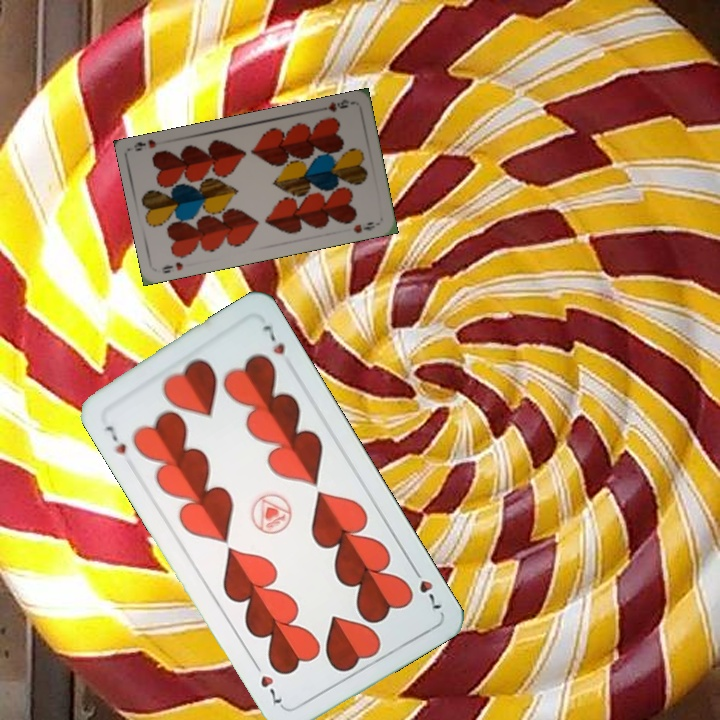H7: (408, 561, 445, 614), (101, 421, 129, 457)
H9: (314, 95, 351, 115), (158, 258, 185, 276)
